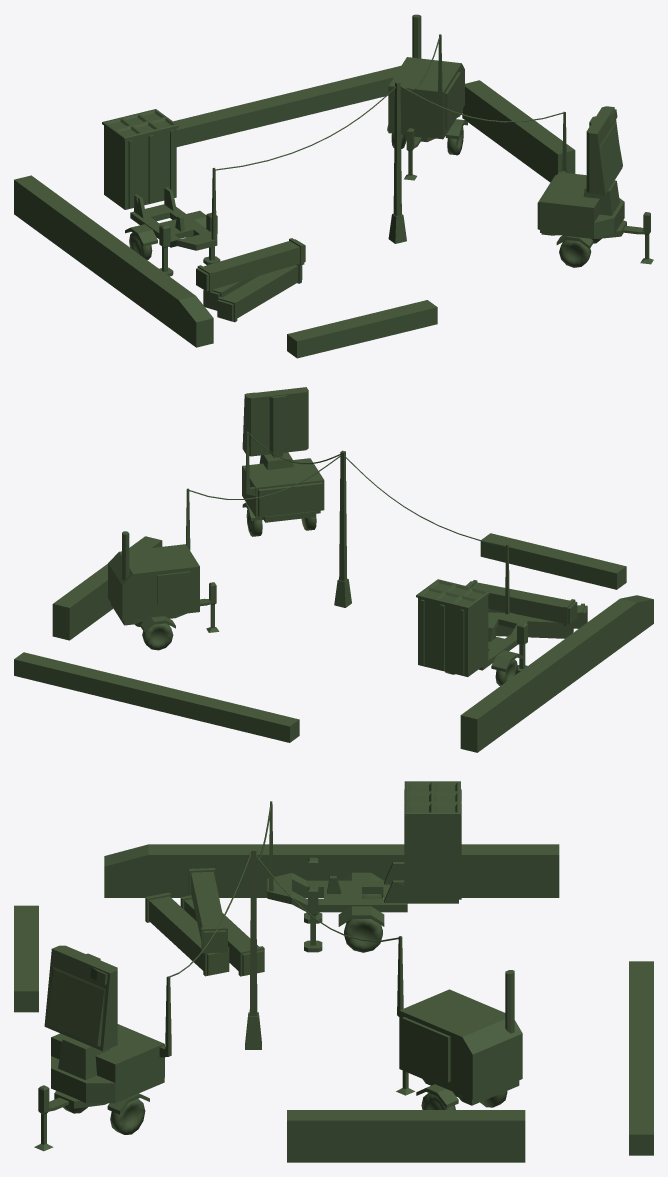
File: Missile Level1.fbx
3 renders of one model, top to bottom at view 1: azimuth 30°, elevation 25°; view 2: azimuth 150°, elevation 25°; view 3: azimuth 270°, elevation 25°, orthographic. The views are drawn at different scales.
Visible parts, largest first — view 1: Missile Level1; view 2: Missile Level1; view 3: Missile Level1.
Boxes of the visible parts, left/top/right/bottom form: Missile Level1: left=14, top=14, right=653, bottom=358; Missile Level1: left=14, top=387, right=653, bottom=752; Missile Level1: left=14, top=781, right=653, bottom=1162.
Size of the model in its own units: 768 by 256 by 755.
